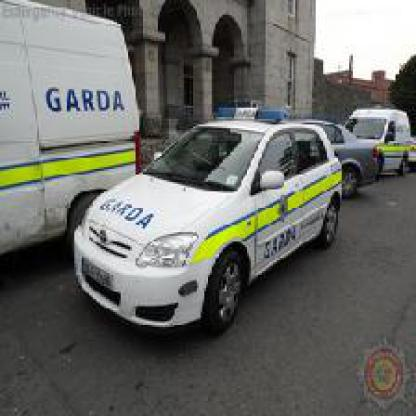emergency: (69, 102, 344, 336), (2, 4, 145, 275), (340, 95, 412, 188)
not_emergency: (286, 110, 383, 188)
